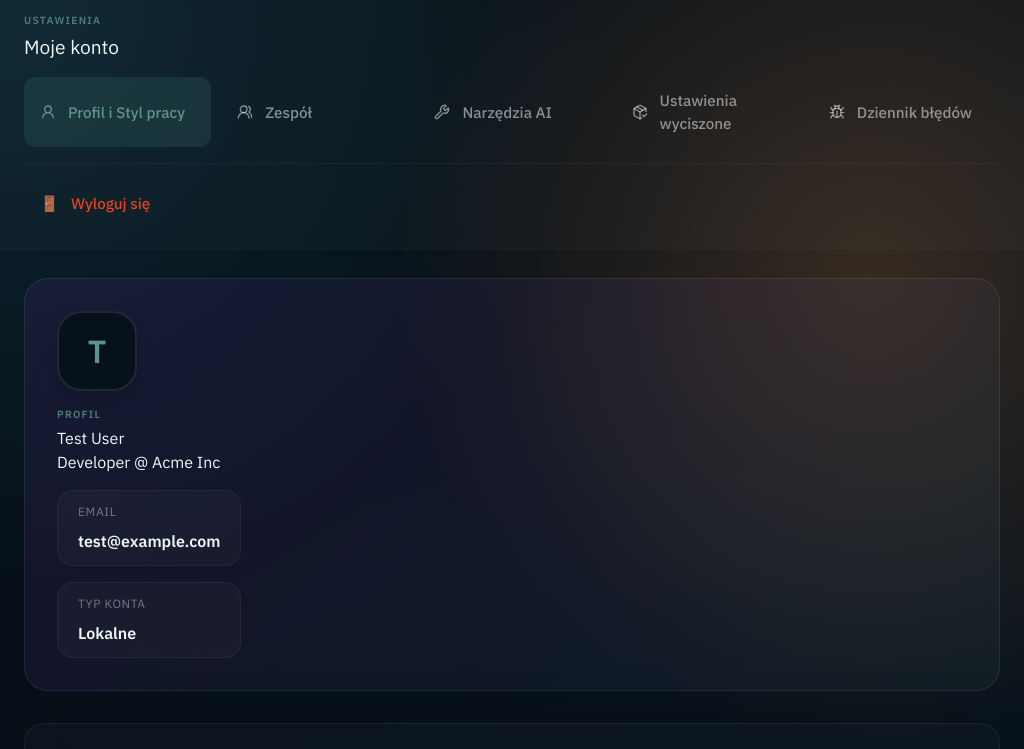
it: ProfileTab › Navigation and Layout › switches between categories when navigation buttons are clicked
This screenshot has width=1024, height=749.
# Switch to Narzędzia AI
Click the button "Narzędzia AI": (512, 112) [418,77,606,147]
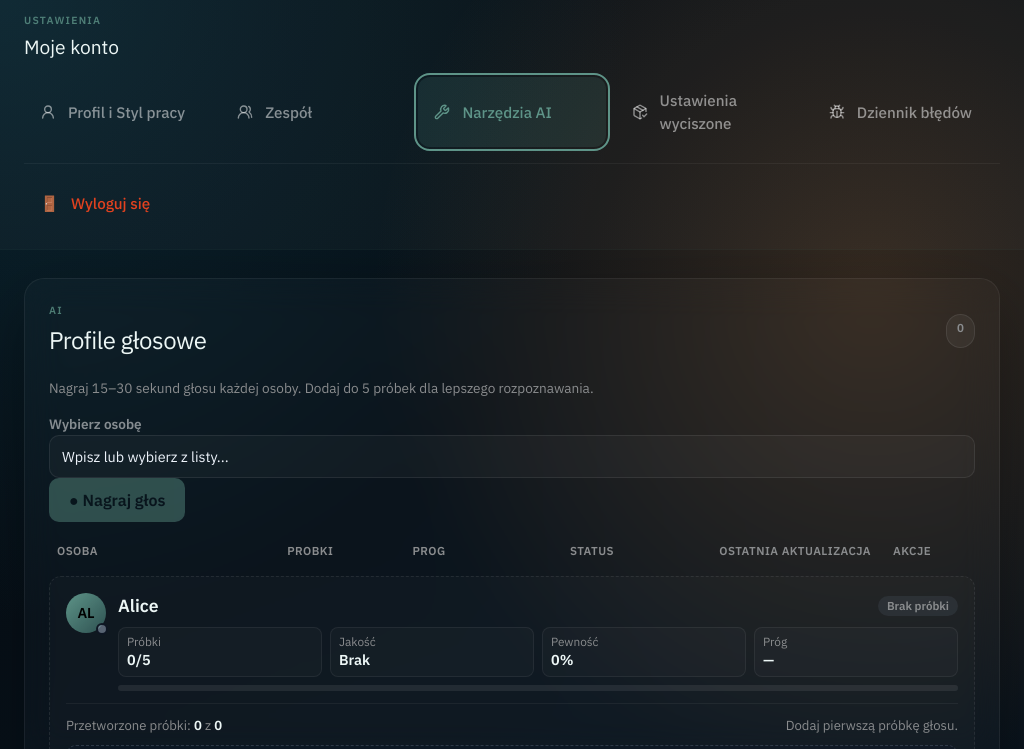
Result: the heading "Profile głosowe" is shown at [49,322,206,358]
# Switch to Ustawienia wyciszone
Click the button "Ustawienia wyciszone": (709, 112) [616,77,803,147]
(page scrolled)
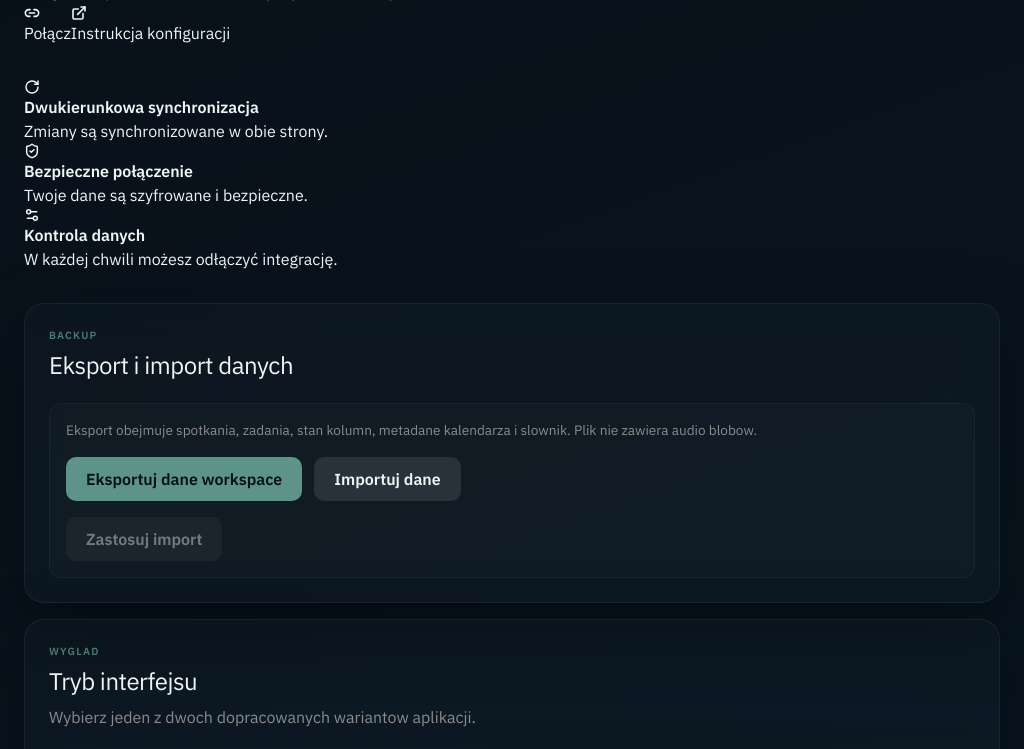
Result: the text "Backup" is shown at [49,328,98,342]
